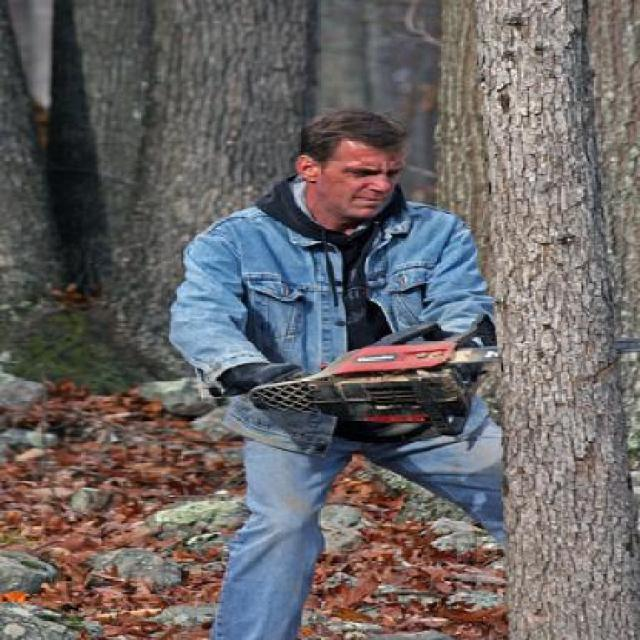Chainsaw: (238, 320, 508, 437)
